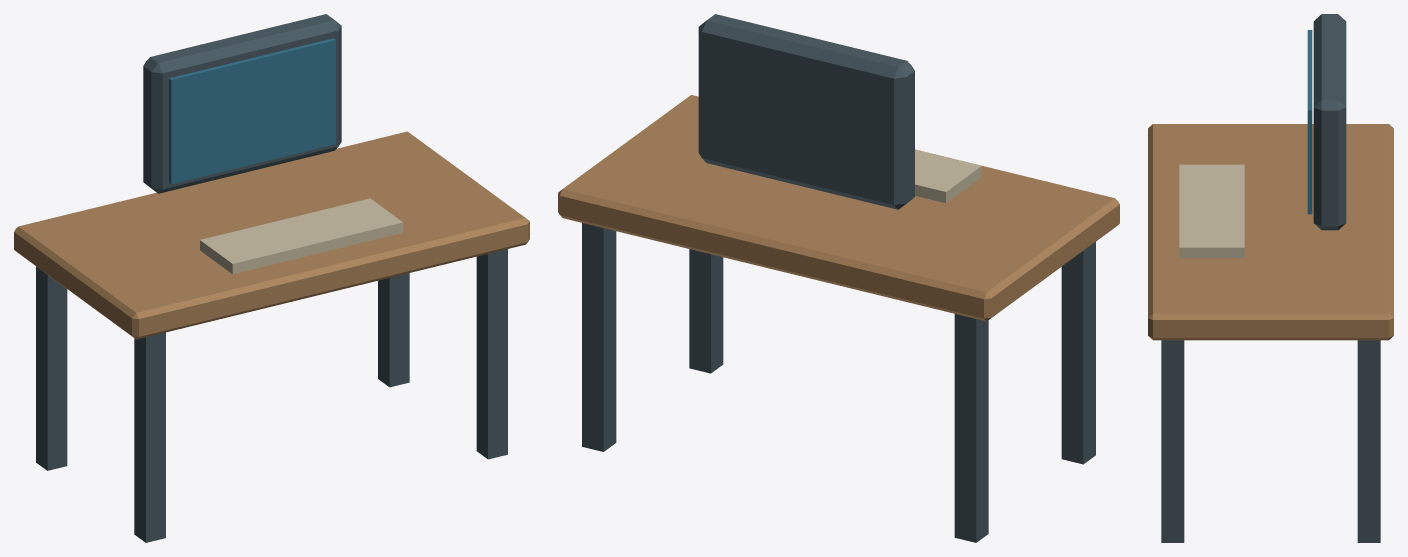
Rendered from monitor_desk.glb.
3 renders of one model, left to right at view 1: azimuth 30°, elevation 25°; view 2: azimuth 150°, elevation 25°; view 3: azimuth 270°, elevation 25°, orthographic. The views are drawn at different scales.
Parts seen in each view (by area): view 1: monitor_desk; view 2: monitor_desk; view 3: monitor_desk.
Boxes of the visible parts, x1,y1,x2,y2 form: monitor_desk: (14, 14, 529, 542); monitor_desk: (558, 14, 1119, 542); monitor_desk: (1148, 14, 1393, 542).
Size of the model in its own units: 1.4 by 1.34 by 0.75.
